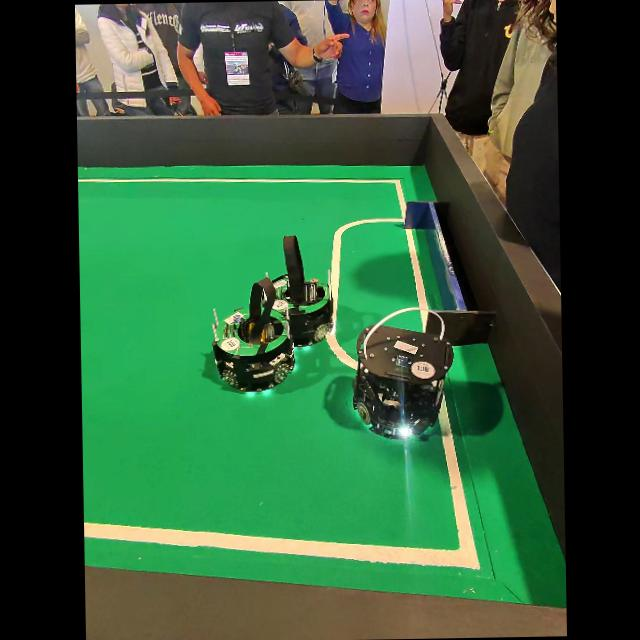goal: (404, 201, 494, 344)
robot: (352, 307, 452, 439), (211, 276, 293, 392), (272, 235, 331, 346)
